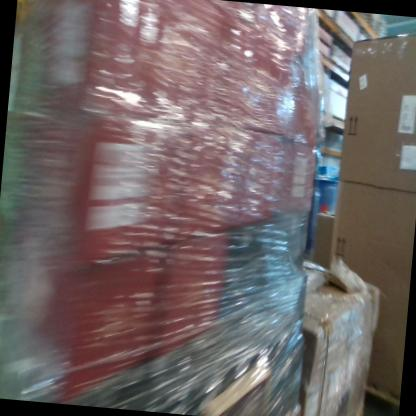pallet: (362, 380, 401, 416)
